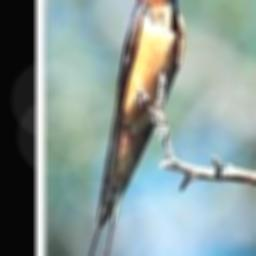Swallow: (83, 0, 185, 256)
